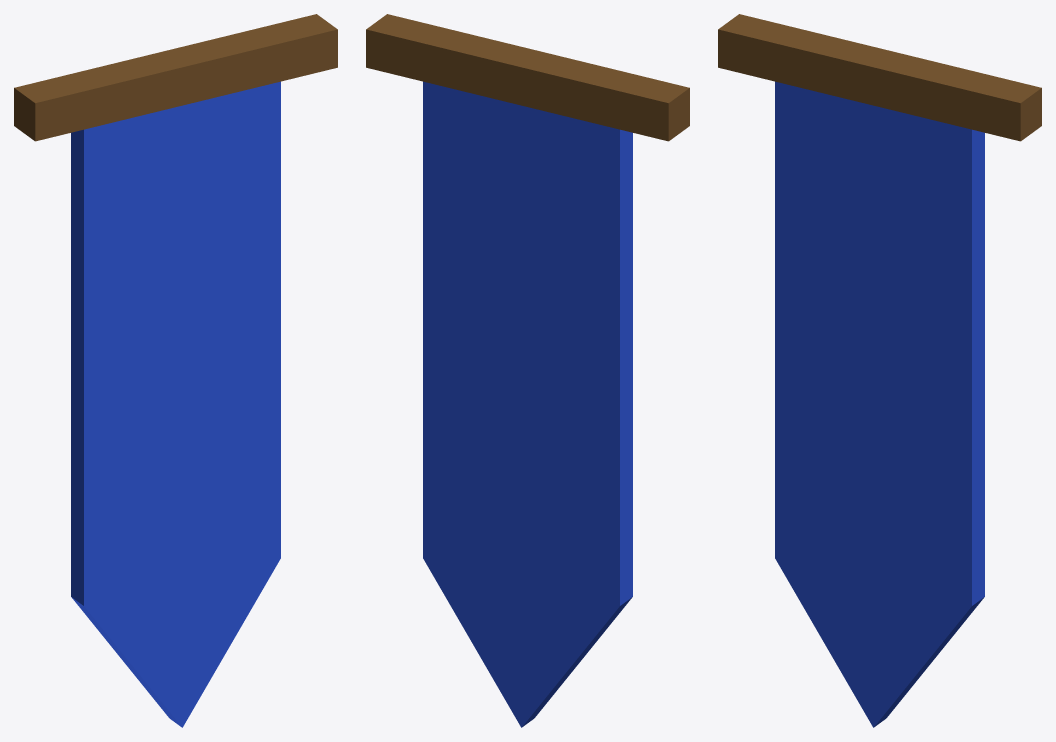
The model's file is Small_Blue_Flags.fbx.
3 renders of one model, left to right at view 1: azimuth 30°, elevation 25°; view 2: azimuth 150°, elevation 25°; view 3: azimuth 330°, elevation 25°, orthographic.
Parts seen in each view (by area): view 1: Small_Blue_Flags; view 2: Small_Blue_Flags; view 3: Small_Blue_Flags.
Boxes of the visible parts, x1,y1,x2,y2 form: Small_Blue_Flags: (14, 14, 337, 727); Small_Blue_Flags: (366, 14, 689, 727); Small_Blue_Flags: (718, 14, 1041, 727).
Bounding box in the file's own units: 127 × 266 × 15.31.
